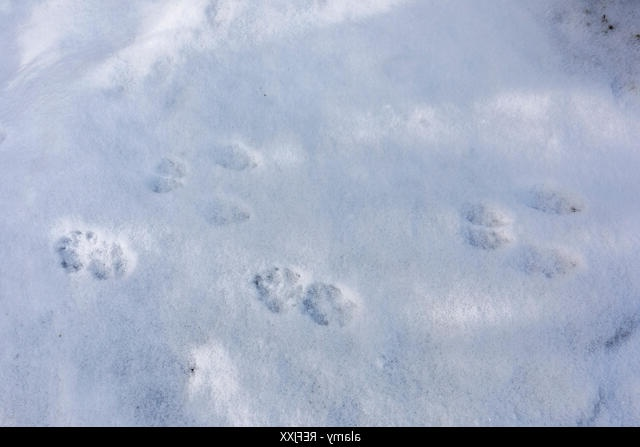rabbit: (236, 257, 380, 341)
